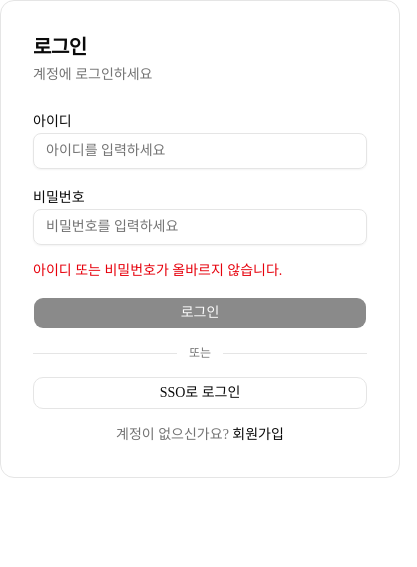
it: LoginCard › 회원가입 409 오류 시 '이미 사용 중인 아이디입니다.' 메시지를 표시한다
Click the button "회원가입" at [258, 435], box [232, 425, 284, 445]
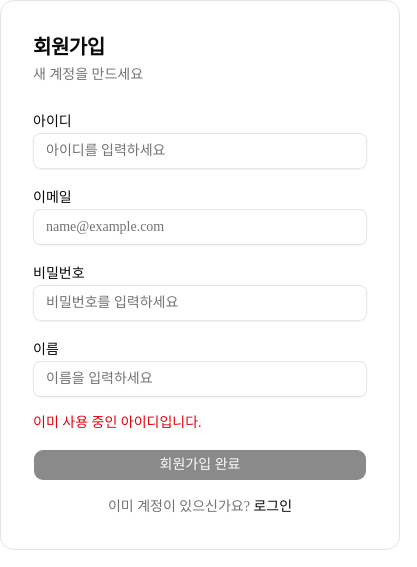
Expected: the text "이미 사용 중인 아이디입니다." is shown, [33, 415, 202, 430]
